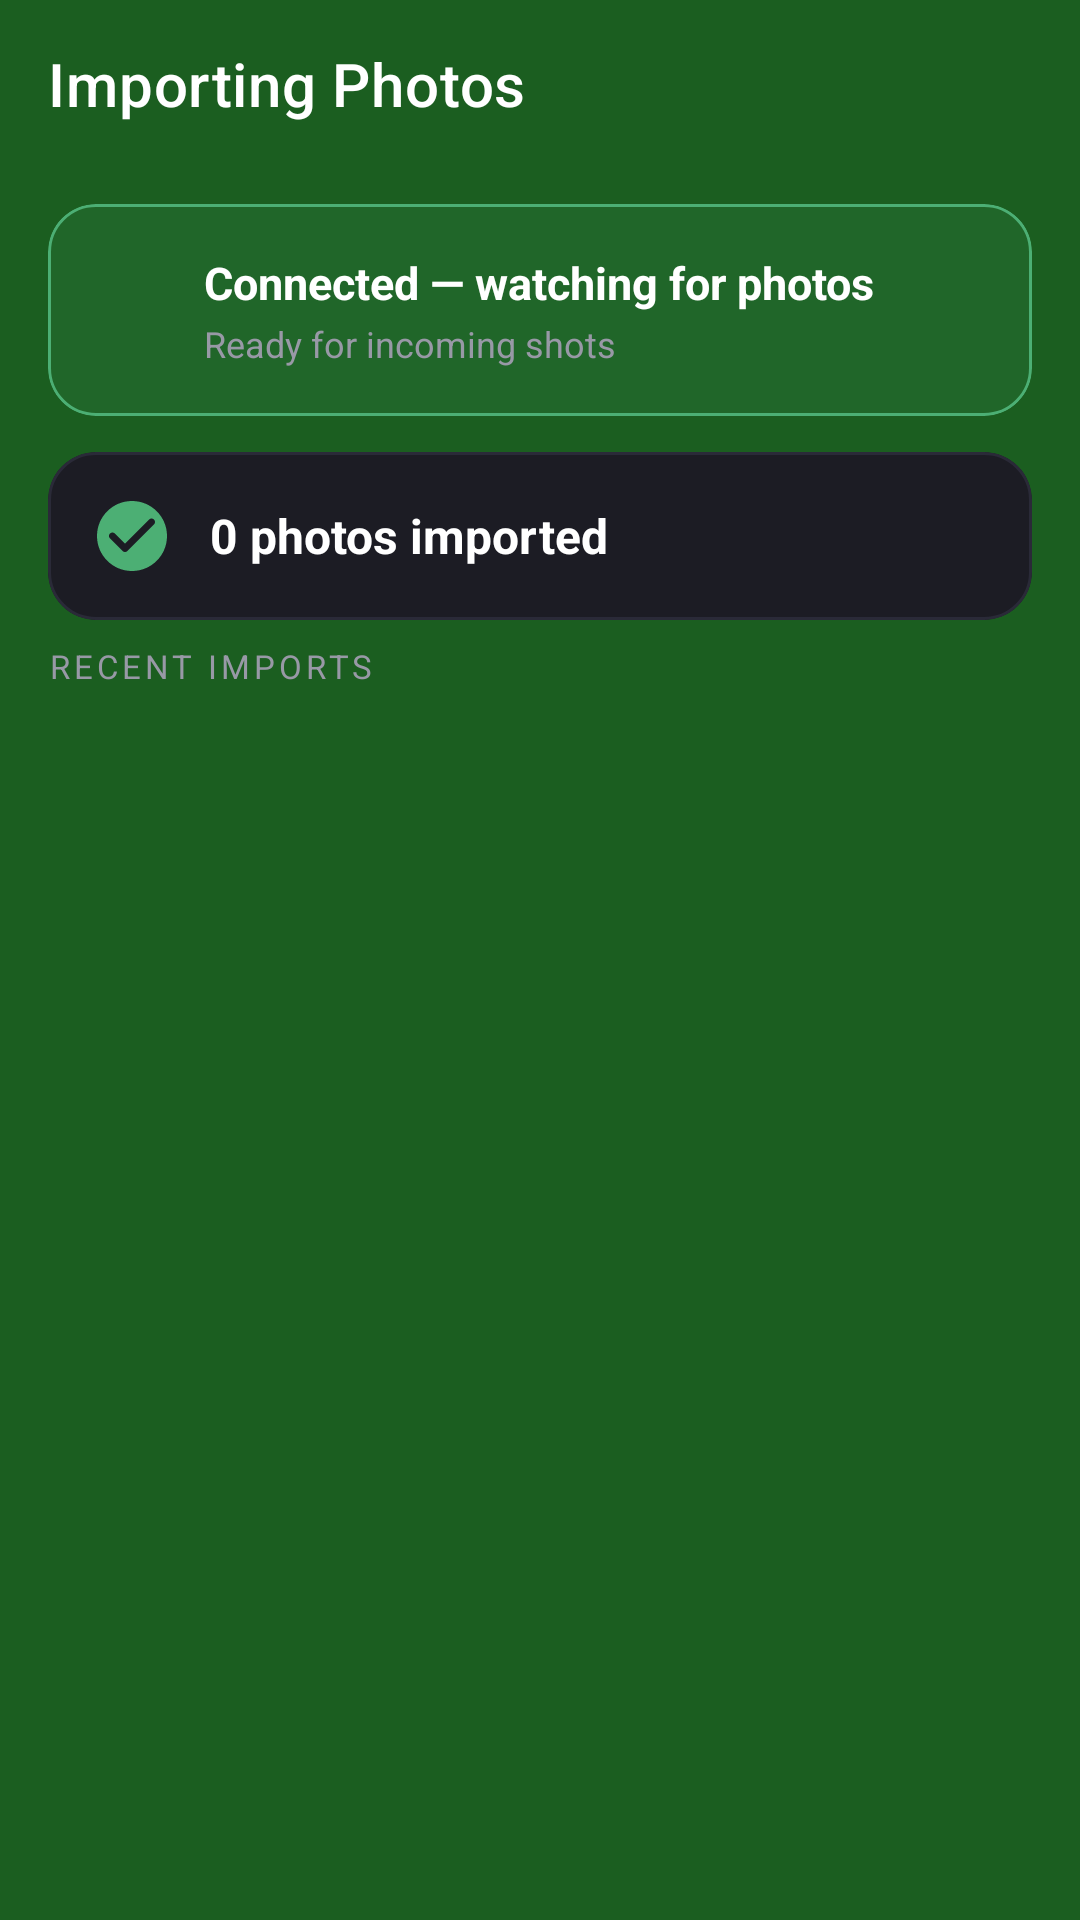

Where icons sit on this 1080x1920 app screen, as (x1, y1, x2, y2):
check circle: (97, 501, 167, 571)
